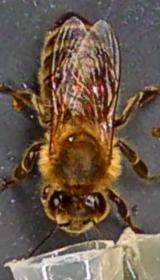varroa_mite: (81, 76, 113, 103)
